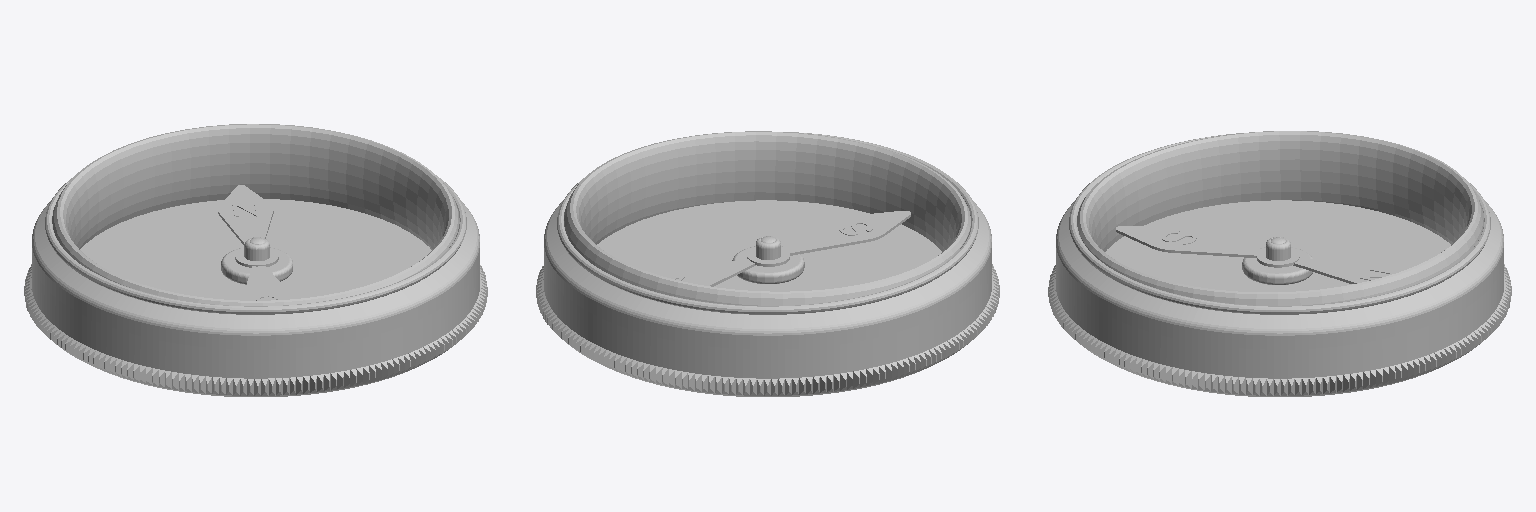
Rendered from compass.obj.
3 renders of one model, left to right at view 1: azimuth 30°, elevation 25°; view 2: azimuth 150°, elevation 25°; view 3: azimuth 270°, elevation 25°, orthographic.
Parts seen in each view (by area): view 1: compass; view 2: compass; view 3: compass.
Boxes of the visible parts, box(x1,y1,x2,y2) form: compass: box(24, 124, 487, 396); compass: box(536, 131, 999, 396); compass: box(1048, 131, 1511, 396).
Bounding box in the file's own units: 1.3 × 0.3057 × 1.3.